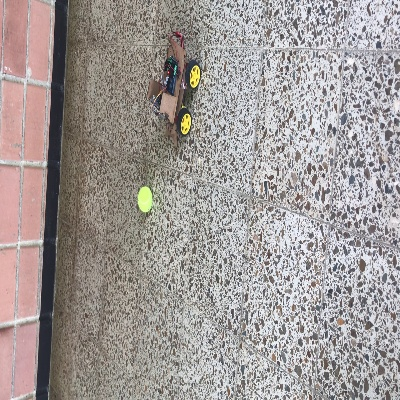Ball: (137, 186, 153, 211)
Robot: (144, 37, 201, 147)
